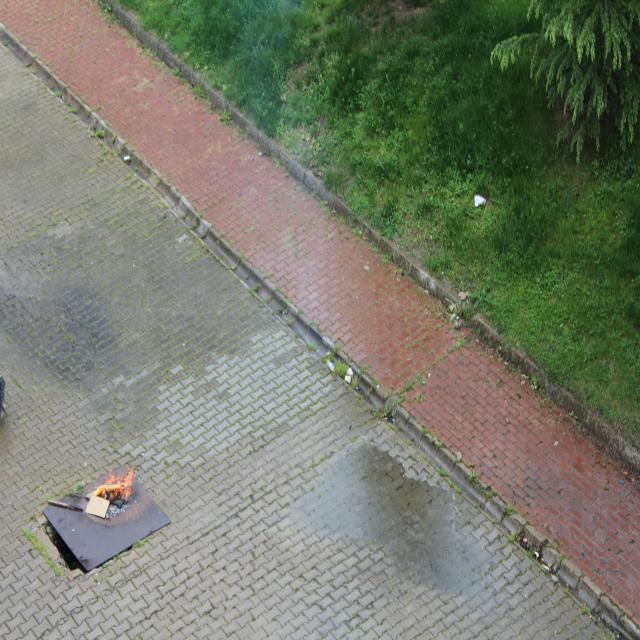fire: (92, 461, 141, 508)
